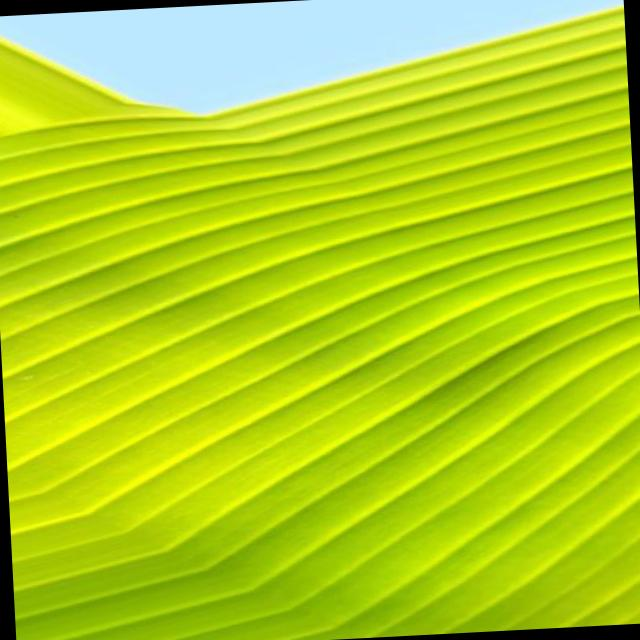Banana_Healthy: (158, 182, 518, 540)
